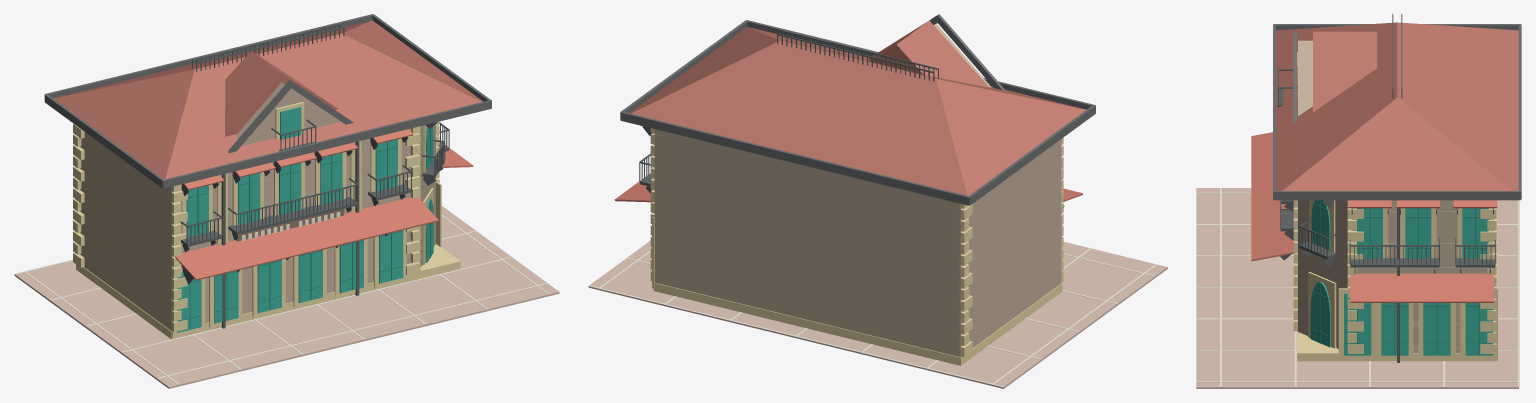
Rendered from estacion-montoya.glb.
3 renders of one model, left to right at view 1: azimuth 30°, elevation 25°; view 2: azimuth 150°, elevation 25°; view 3: azimuth 270°, elevation 25°, orthographic. The views are drawn at different scales.
Visible parts, largest first — view 1: estacion-montoya · Cubierta principal a cuatro aguas, estacion-montoya · Plaza de ladrillo, estacion-montoya · Cuerpo principal de ladrillo, estacion-montoya · Fachada larga · marquesina corrida, estacion-montoya · Cubierta del hastial, estacion-montoya · Alero oscuro (2), estacion-montoya · Zócalo claro, estacion-montoya · Alero oscuro, estacion-montoya · Hastial del frente, estacion-montoya · Alero oscuro (3), estacion-montoya · Fachada larga · losa de balcón, estacion-montoya · Fachada larga · hoja verde (8) (+28 smaller); view 2: estacion-montoya · Cuerpo principal de ladrillo, estacion-montoya · Cubierta principal a cuatro aguas, estacion-montoya · Plaza de ladrillo, estacion-montoya · Cuerpo del costado corto, estacion-montoya · Zócalo claro, estacion-montoya · Alero oscuro, estacion-montoya · Cubierta del hastial, estacion-montoya · Alero oscuro (3), estacion-montoya · Alero oscuro (2), estacion-montoya · Alero oscuro (4), estacion-montoya · Junta de plaza (8), estacion-montoya · Tapajuntas del hastial; view 3: estacion-montoya · Cubierta principal a cuatro aguas, estacion-montoya · Plaza de ladrillo, estacion-montoya · Costado corto · marquesina corrida, estacion-montoya · Cubierta del hastial, estacion-montoya · Fachada larga · marquesina corrida, estacion-montoya · Cuerpo del costado corto, estacion-montoya · Esquina ochavada, estacion-montoya · Alero oscuro (4), estacion-montoya · Zócalo claro, estacion-montoya · Costado corto · hoja verde (5), estacion-montoya · Costado corto · hoja verde (6), estacion-montoya · Costado corto · hoja verde (2) (+30 smaller).
Boxes of the visible parts, bbox=[...] form: estacion-montoya · Cubierta principal a cuatro aguas: bbox=[53, 20, 482, 179]; estacion-montoya · Plaza de ladrillo: bbox=[14, 206, 559, 388]; estacion-montoya · Cuerpo principal de ladrillo: bbox=[80, 128, 411, 330]; estacion-montoya · Fachada larga · marquesina corrida: bbox=[175, 197, 438, 280]; estacion-montoya · Cubierta del hastial: bbox=[225, 51, 338, 136]; estacion-montoya · Alero oscuro (2): bbox=[163, 100, 491, 188]; estacion-montoya · Zócalo claro: bbox=[76, 244, 460, 339]; estacion-montoya · Alero oscuro: bbox=[45, 14, 373, 98]; estacion-montoya · Hastial del frente: bbox=[237, 82, 340, 145]; estacion-montoya · Alero oscuro (3): bbox=[44, 94, 163, 188]; estacion-montoya · Fachada larga · losa de balcón: bbox=[228, 197, 357, 234]; estacion-montoya · Fachada larga · hoja verde (8): bbox=[257, 260, 281, 313]; estacion-montoya · Cuerpo principal de ladrillo: bbox=[698, 139, 1061, 357]; estacion-montoya · Cubierta principal a cuatro aguas: bbox=[629, 27, 1086, 195]; estacion-montoya · Plaza de ladrillo: bbox=[588, 241, 1167, 388]; estacion-montoya · Cuerpo del costado corto: bbox=[654, 129, 698, 292]; estacion-montoya · Zócalo claro: bbox=[653, 282, 1062, 365]; estacion-montoya · Alero oscuro: bbox=[620, 111, 969, 205]; estacion-montoya · Cubierta del hastial: bbox=[869, 20, 989, 87]; estacion-montoya · Alero oscuro (3): bbox=[969, 105, 1095, 205]; estacion-montoya · Alero oscuro (2): bbox=[746, 20, 1095, 109]; estacion-montoya · Alero oscuro (4): bbox=[620, 20, 747, 119]; estacion-montoya · Junta de plaza (8): bbox=[588, 285, 1003, 387]; estacion-montoya · Tapajuntas del hastial: bbox=[935, 14, 1005, 90]; estacion-montoya · Cubierta principal a cuatro aguas: bbox=[1276, 22, 1518, 190]; estacion-montoya · Plaza de ladrillo: bbox=[1196, 188, 1518, 388]; estacion-montoya · Costado corto · marquesina corrida: bbox=[1350, 273, 1493, 302]; estacion-montoya · Cubierta del hastial: bbox=[1313, 31, 1377, 111]; estacion-montoya · Fachada larga · marquesina corrida: bbox=[1251, 132, 1297, 261]; estacion-montoya · Cuerpo del costado corto: bbox=[1357, 200, 1487, 352]; estacion-montoya · Esquina ochavada: bbox=[1298, 200, 1347, 348]; estacion-montoya · Alero oscuro (4): bbox=[1274, 191, 1520, 200]; estacion-montoya · Zócalo claro: bbox=[1297, 208, 1497, 361]; estacion-montoya · Costado corto · hoja verde (5): bbox=[1423, 303, 1450, 355]; estacion-montoya · Costado corto · hoja verde (6): bbox=[1381, 303, 1408, 355]; estacion-montoya · Costado corto · hoja verde (2): bbox=[1405, 208, 1431, 258].
Size of the model in its own units: 19 by 10.85 by 13.11.
